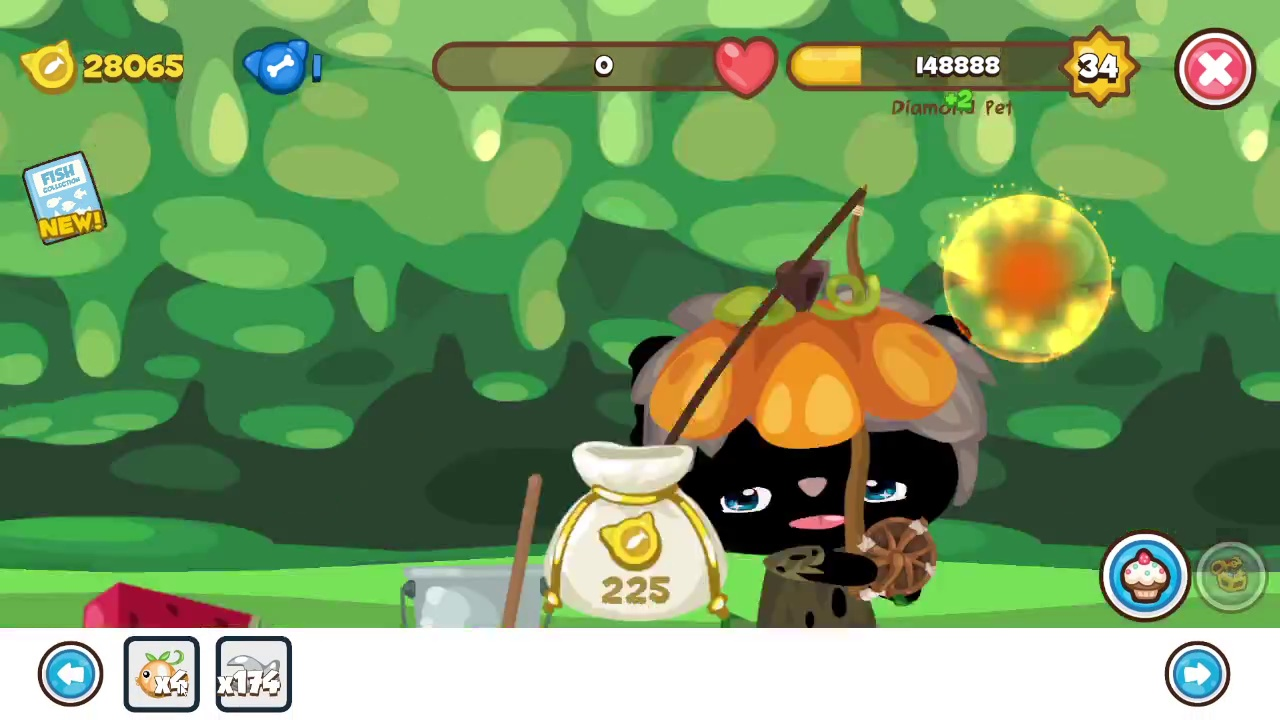point: (940, 192, 1115, 364)
